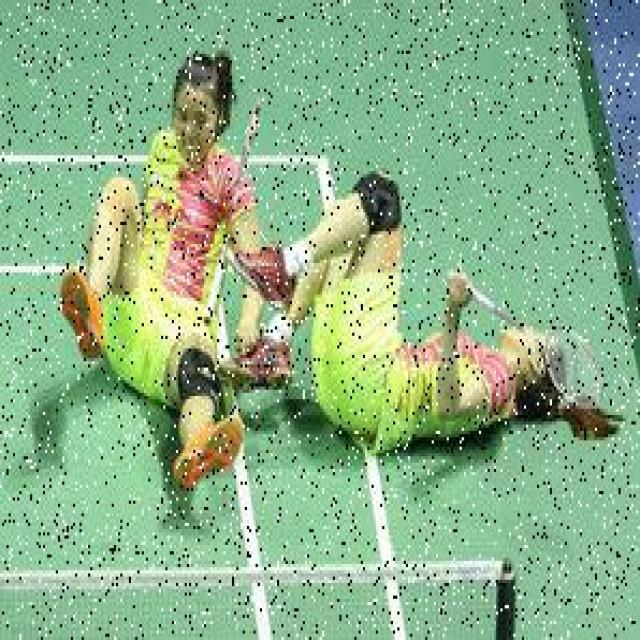fall: (66, 60, 245, 507), (292, 184, 565, 428)
